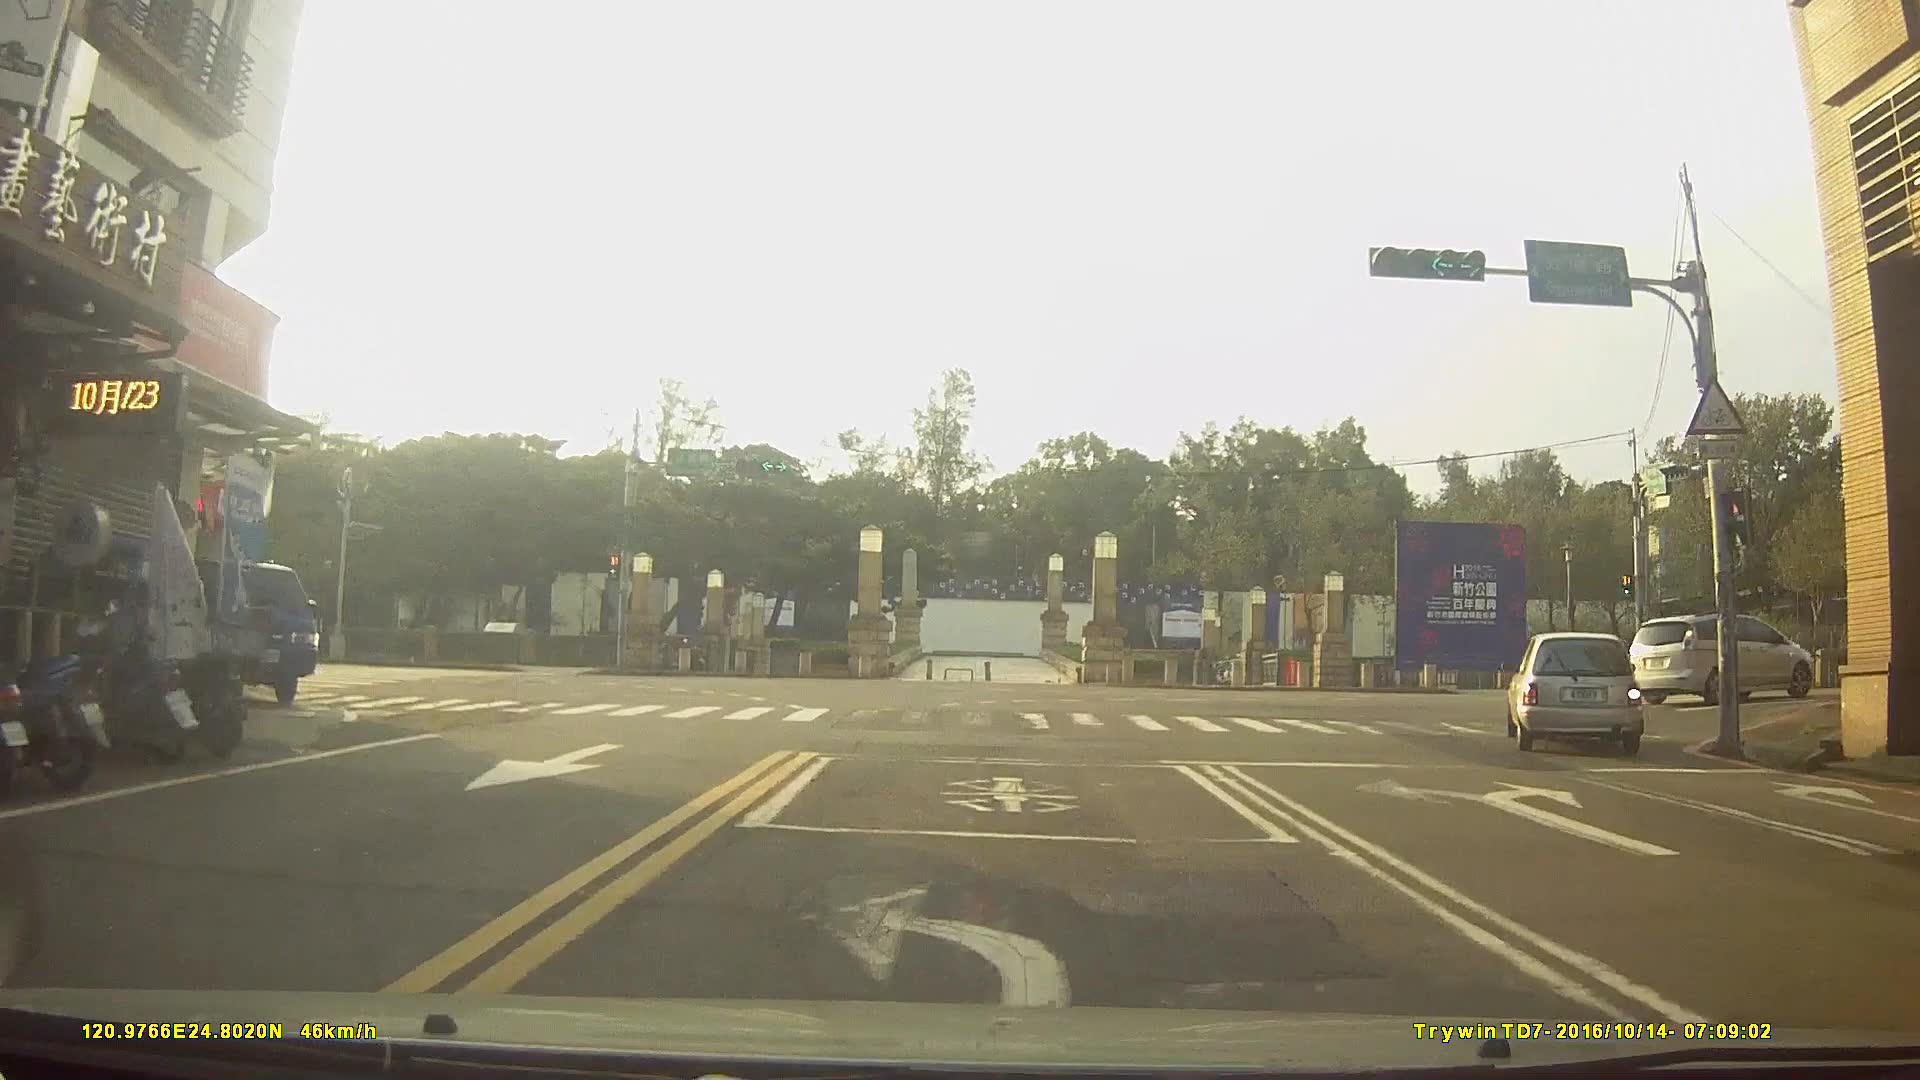vehicle: (189, 556, 316, 707), (1505, 626, 1647, 753), (1627, 609, 1815, 704)
